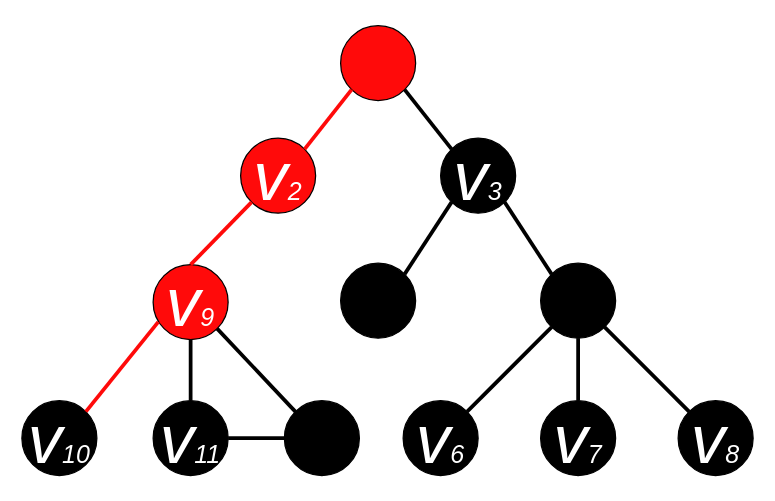
Image size: 775x501. Some labels were removed from this diagram. Each missing label, with the centre of its shape:
"v 1" goes at [377,62].
"v 12" goes at [321,437].
"v 4" goes at [377,300].
"v 5" goes at [577,300].
